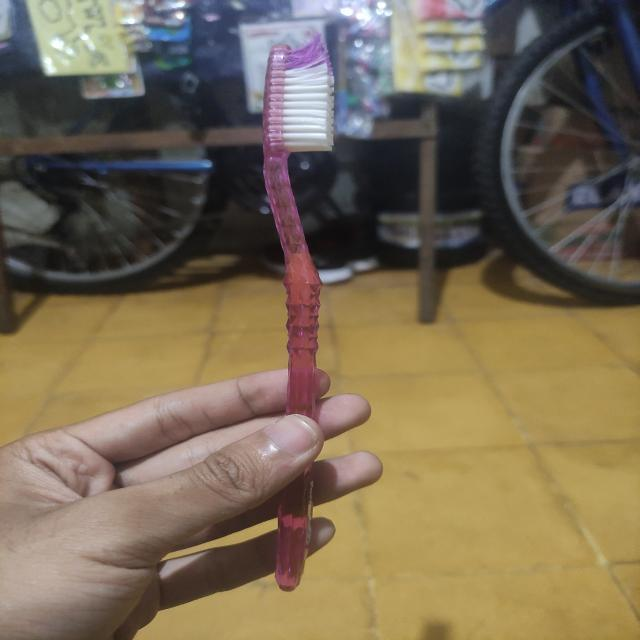toothbrush: (251, 33, 369, 599)
